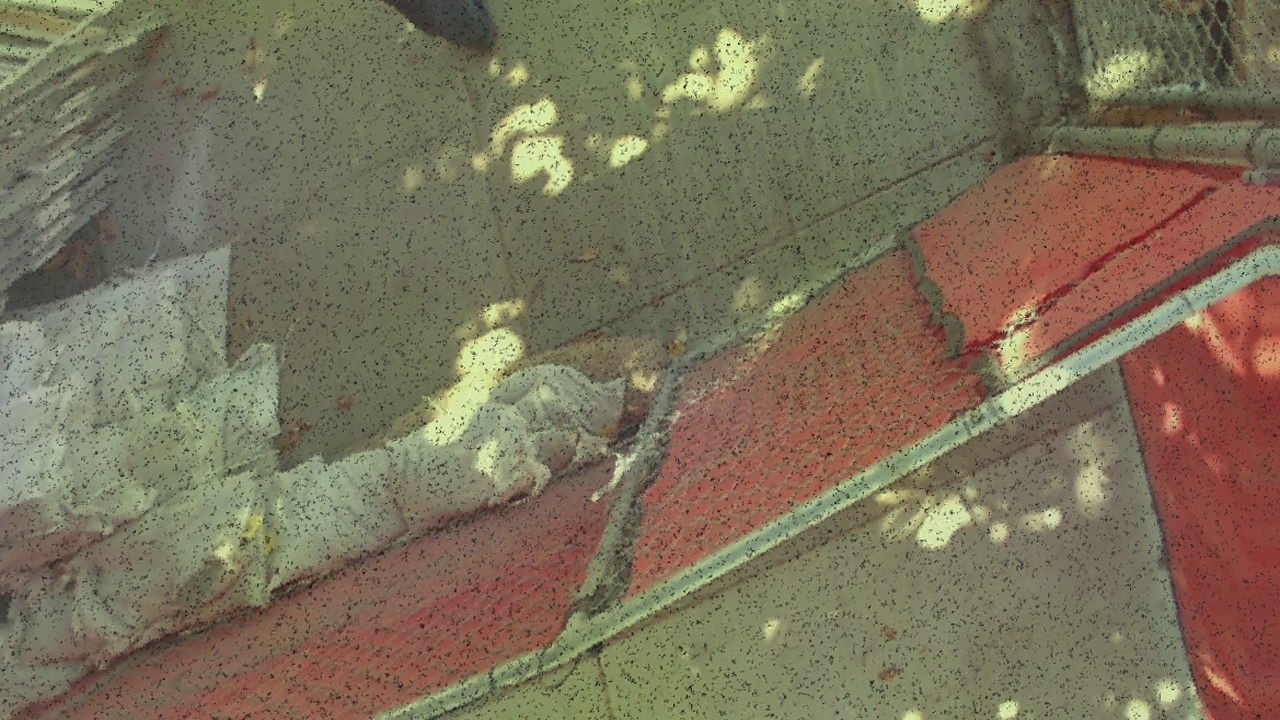hardhat: (26, 190, 212, 334)
person: (32, 216, 354, 429)
safetyvest: (36, 274, 322, 423)
